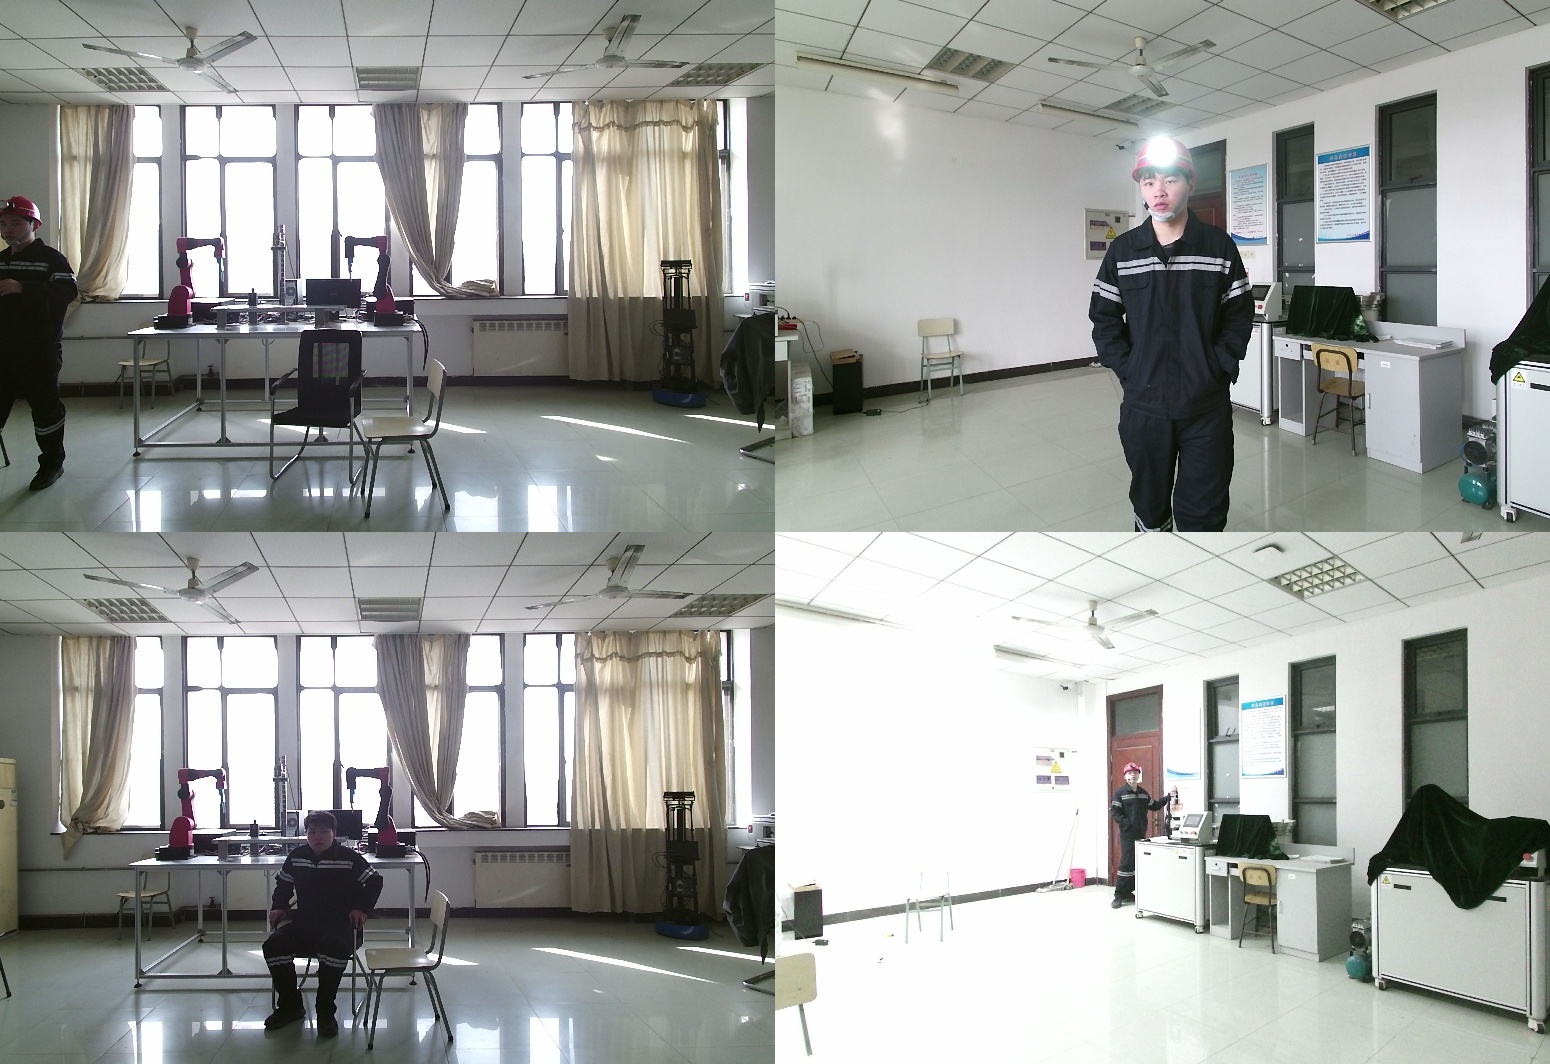person: (1089, 136, 1264, 532), (264, 812, 390, 1036), (1, 197, 88, 490), (1108, 763, 1169, 907)
